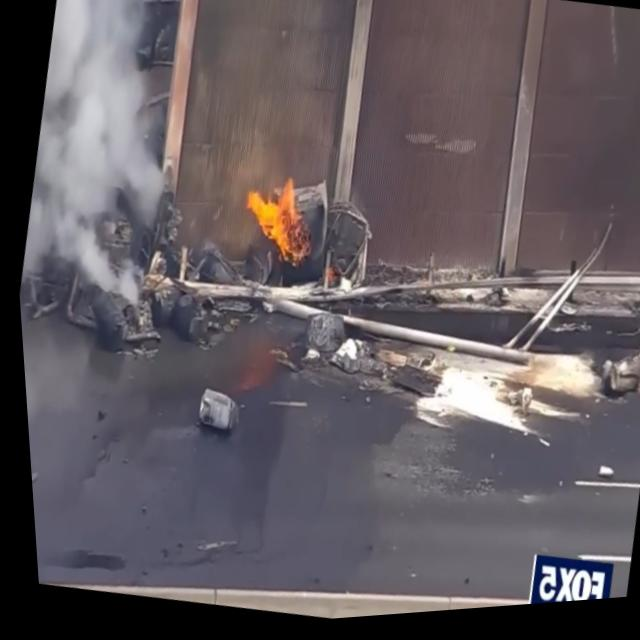Fire: (227, 166, 316, 275)
